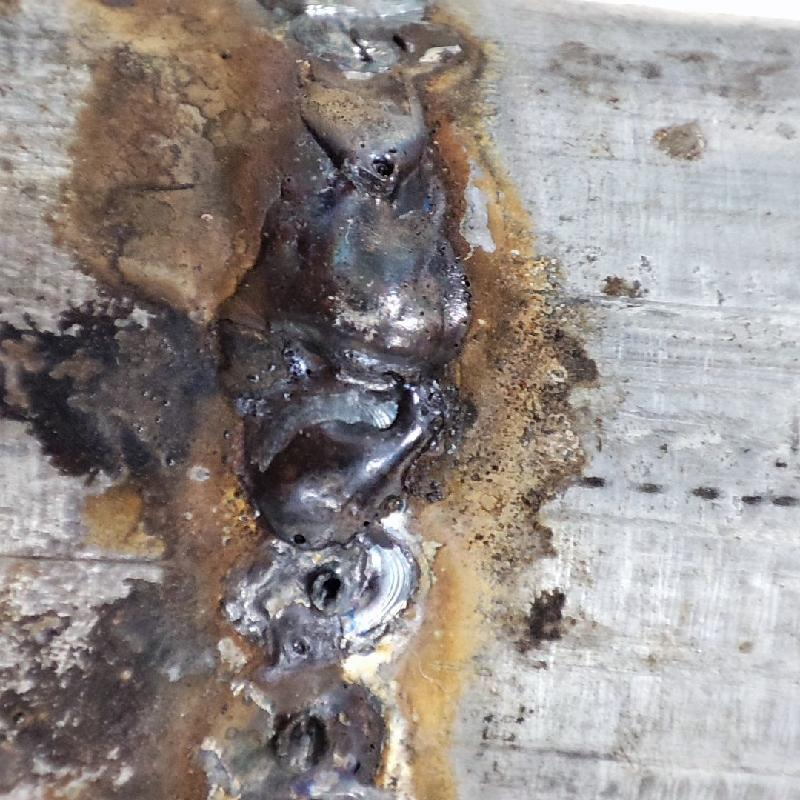Not_fully_soldered: (232, 535, 405, 799), (263, 1, 456, 197)
Surface_pores: (345, 134, 413, 188), (302, 569, 352, 617), (278, 515, 323, 563)
Weld: (219, 197, 471, 551)
